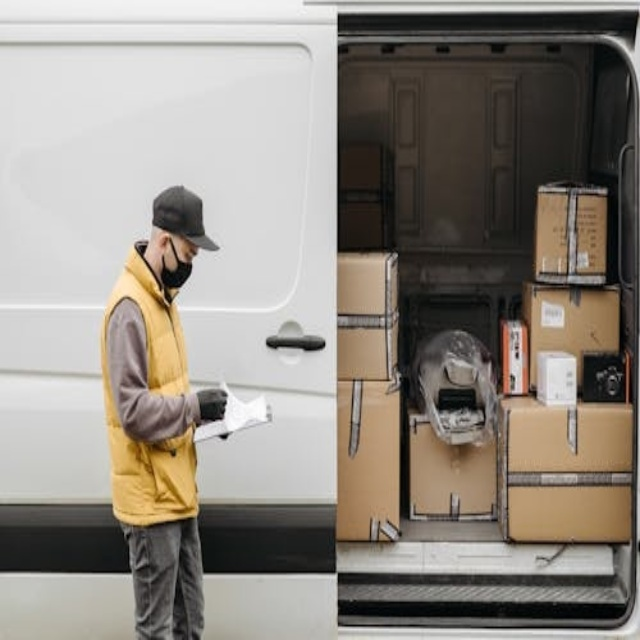Guantes: (196, 388, 228, 422)
Mascara: (161, 239, 194, 290)
Sin_gafas: (179, 238, 198, 263)
